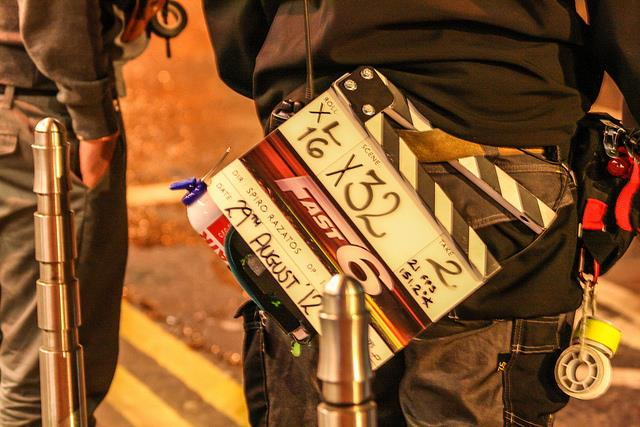clapperboard: (212, 73, 552, 359)
